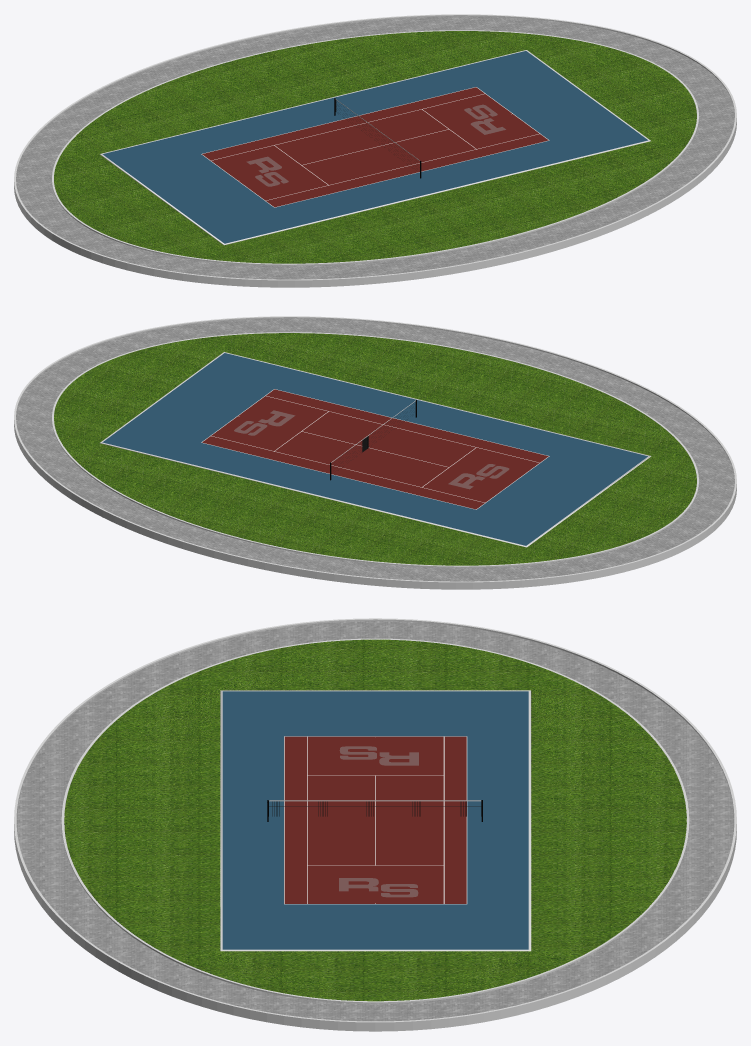
Rendered from tennis_court.glb.
The picture shows the model from 3 angles, top to bottom: view 1: azimuth 30°, elevation 25°; view 2: azimuth 150°, elevation 25°; view 3: azimuth 270°, elevation 25°; orthographic projection. The views are drawn at different scales.
Visible parts, largest first — view 1: Rectangle025, outer, Object001_Material #6_0, play_Material #3_0, Ellipse001, Rectangle024, line marking_Material #4_0; view 2: Rectangle025, outer, Object001_Material #6_0, play_Material #3_0, Ellipse001, Rectangle024, line marking_Material #4_0; view 3: Rectangle025, outer, Object001_Material #6_0, play_Material #3_0, Ellipse001, Rectangle024, line marking_Material #4_0.
Part boxes in pixels (left/top/right/bottom): Rectangle025: left=54, top=31, right=696, bottom=263; outer: left=102, top=51, right=647, bottom=243; Object001_Material #6_0: left=16, top=16, right=734, bottom=279; play_Material #3_0: left=202, top=87, right=548, bottom=207; Ellipse001: left=14, top=14, right=736, bottom=287; Rectangle024: left=99, top=50, right=650, bottom=245; line marking_Material #4_0: left=201, top=87, right=549, bottom=207; Rectangle025: left=54, top=333, right=696, bottom=565; outer: left=102, top=353, right=647, bottom=545; Object001_Material #6_0: left=16, top=318, right=734, bottom=581; play_Material #3_0: left=202, top=389, right=548, bottom=509; Ellipse001: left=14, top=316, right=736, bottom=589; Rectangle024: left=100, top=352, right=651, bottom=547; line marking_Material #4_0: left=201, top=389, right=549, bottom=509; Rectangle025: left=64, top=639, right=686, bottom=1001; outer: left=222, top=691, right=528, bottom=949; Object001_Material #6_0: left=16, top=621, right=734, bottom=1021; play_Material #3_0: left=284, top=736, right=466, bottom=903; Ellipse001: left=14, top=618, right=736, bottom=1031; Rectangle024: left=220, top=690, right=531, bottom=951; line marking_Material #4_0: left=284, top=736, right=467, bottom=904.
Size of the model in its own units: 57.17 by 2.03 by 43.23.
9 materials, 2 textured.
